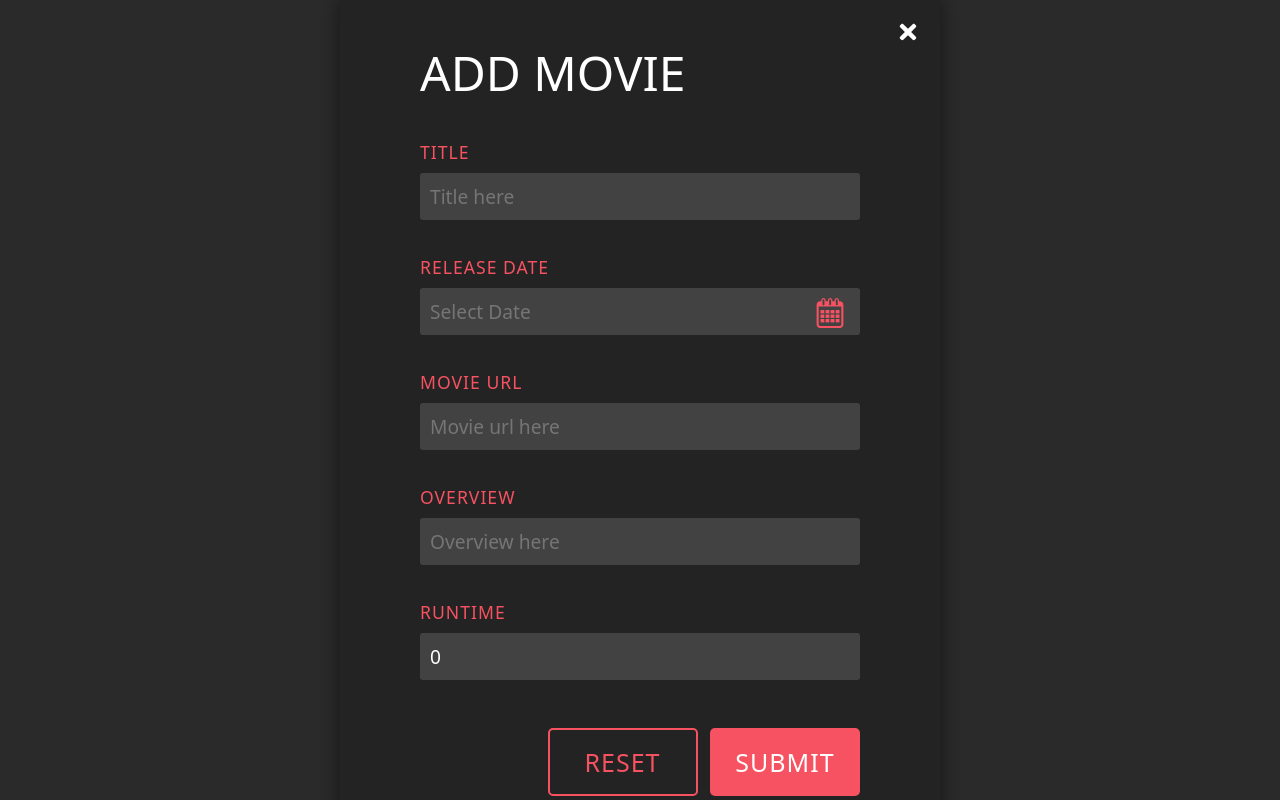
ModalForm › should work reset form
The width and height of the screenshot is (1280, 800).
Type "mock title" into the field with placeholder "Title here".
click(640, 196); type("mock title")  # box left=420, top=173, right=860, bottom=220
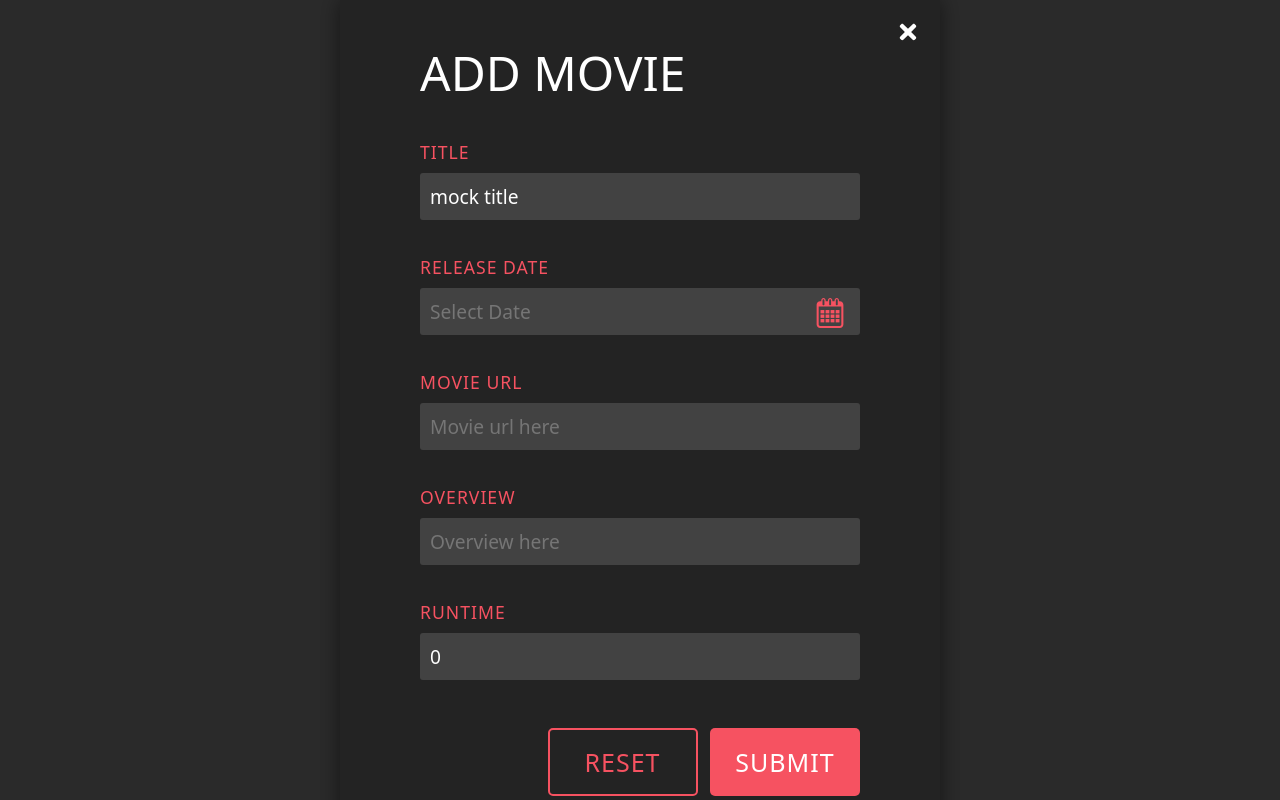
Click the button "reset".
click(622, 762)  # box left=548, top=728, right=698, bottom=796
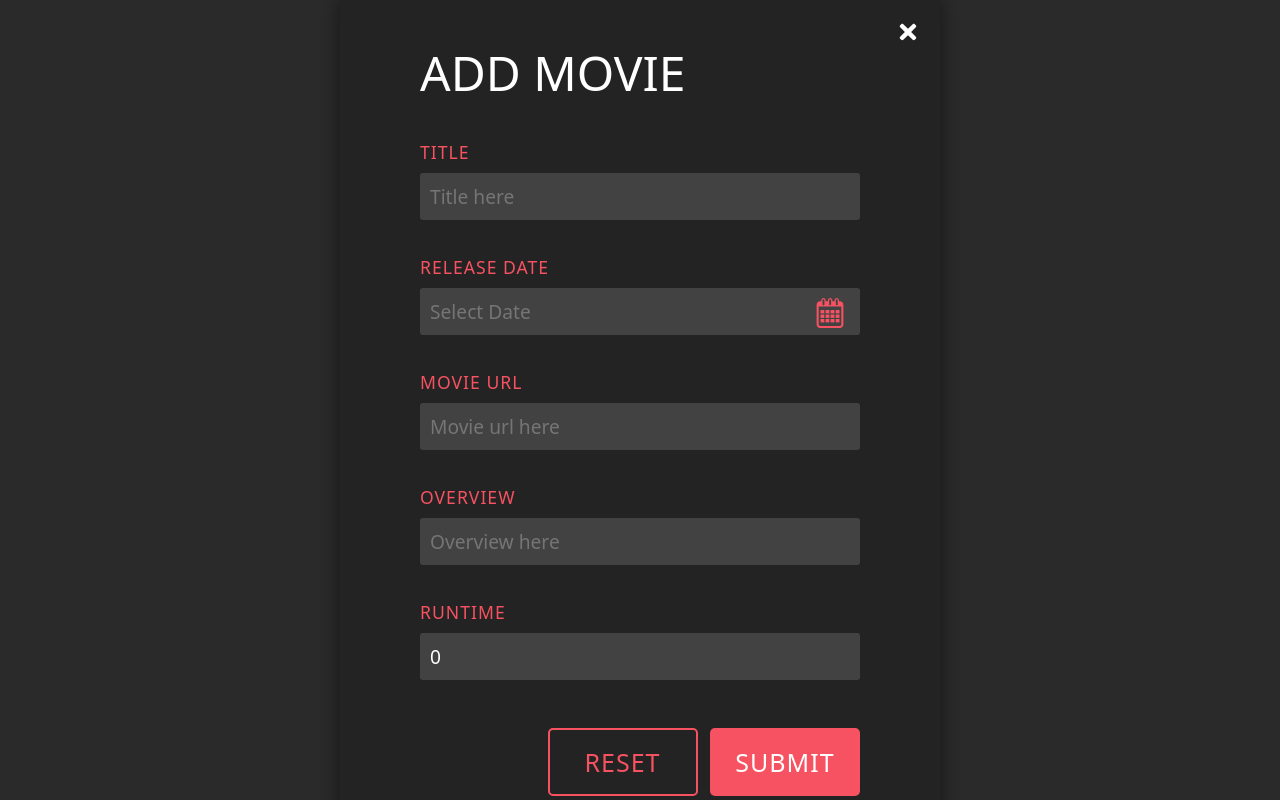
Expected: the field with placeholder "Title here" is empty, left=420, top=173, right=860, bottom=220
